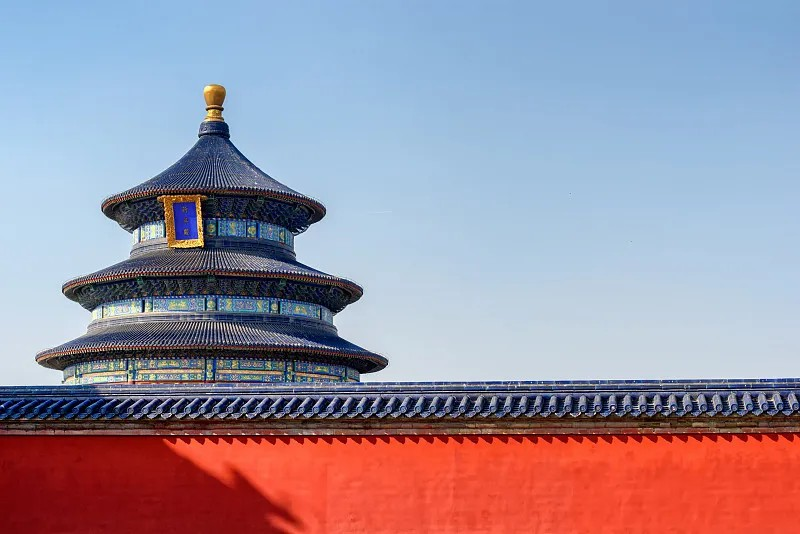Heaven: (33, 82, 388, 384)
